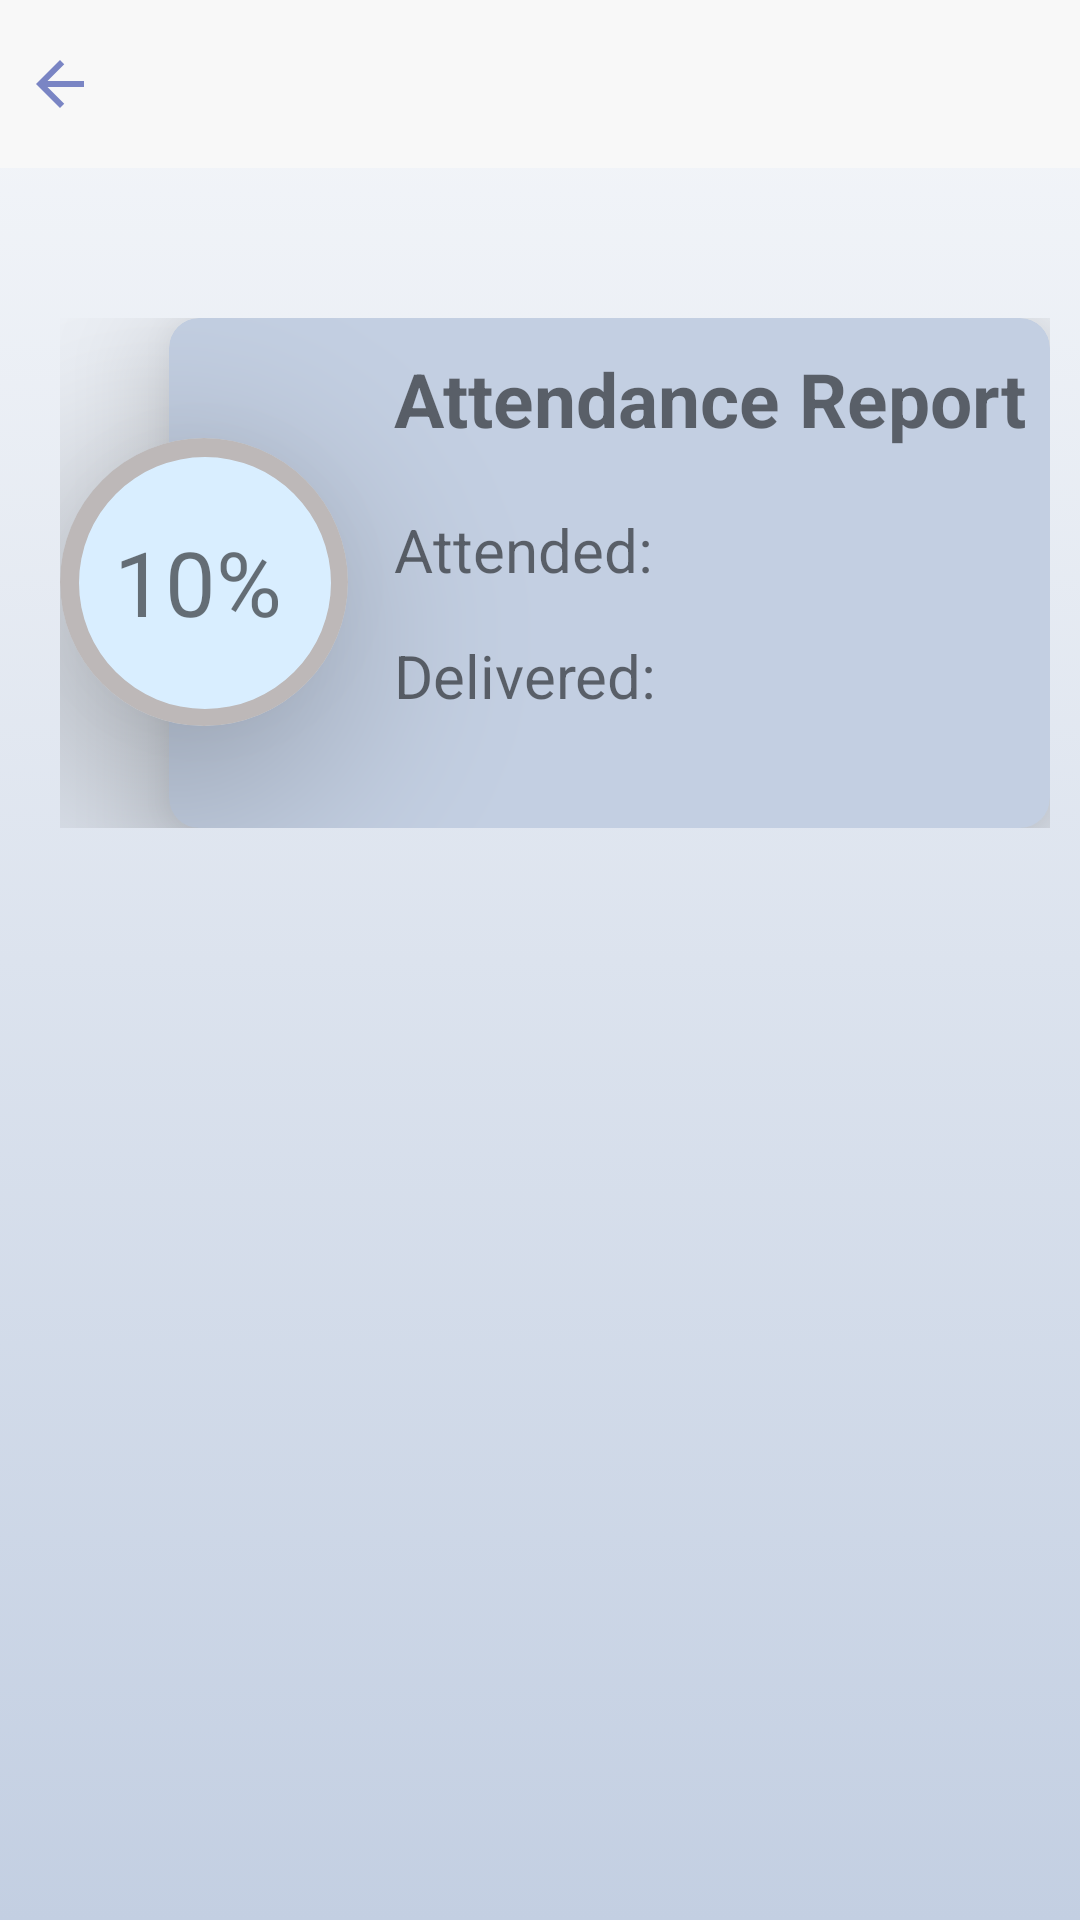

Icon click points for this 1080px x 1920px phone screenshot, format (x,y):
arrow back: (60,84)
